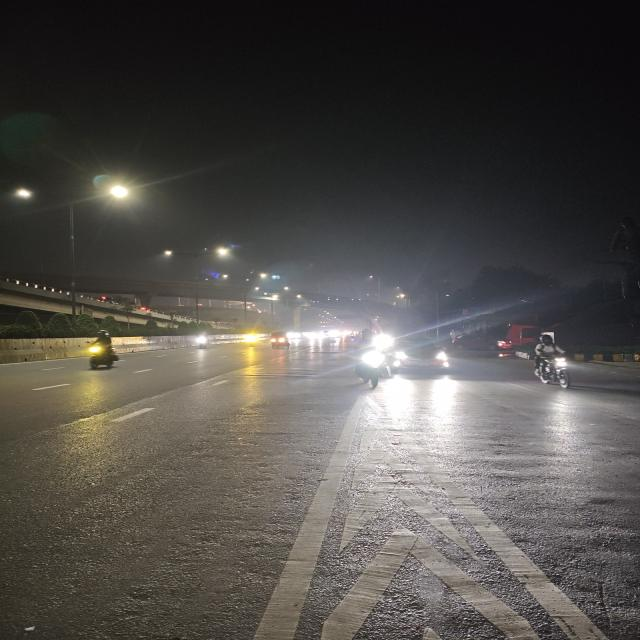car: (382, 337, 458, 380)
cng: (267, 332, 289, 350)
motorcycle: (525, 333, 580, 392), (348, 338, 394, 392), (76, 334, 127, 374), (191, 329, 215, 349)
